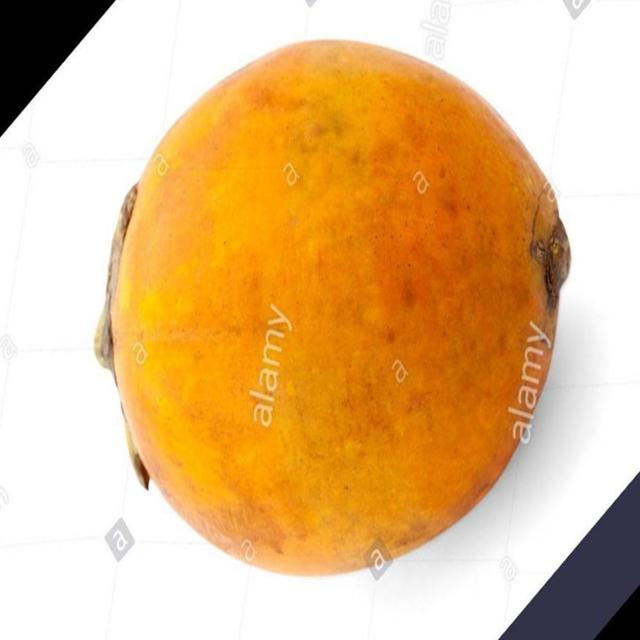good: (96, 39, 572, 580)
